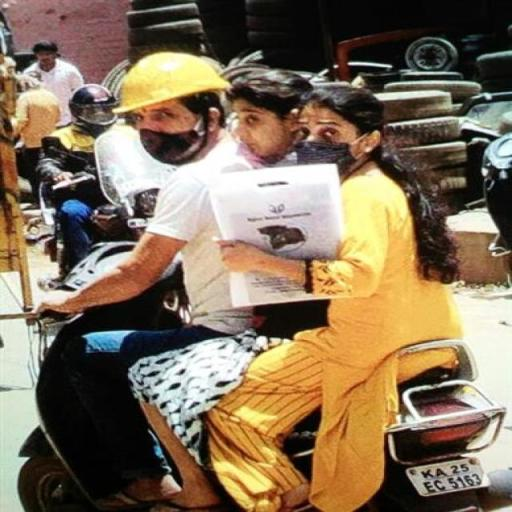tripple riding: (20, 46, 509, 364)
